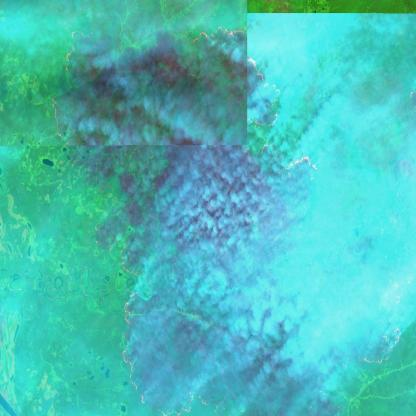fire: (190, 24, 322, 178), (118, 245, 221, 416), (358, 267, 416, 367), (49, 22, 88, 154)
